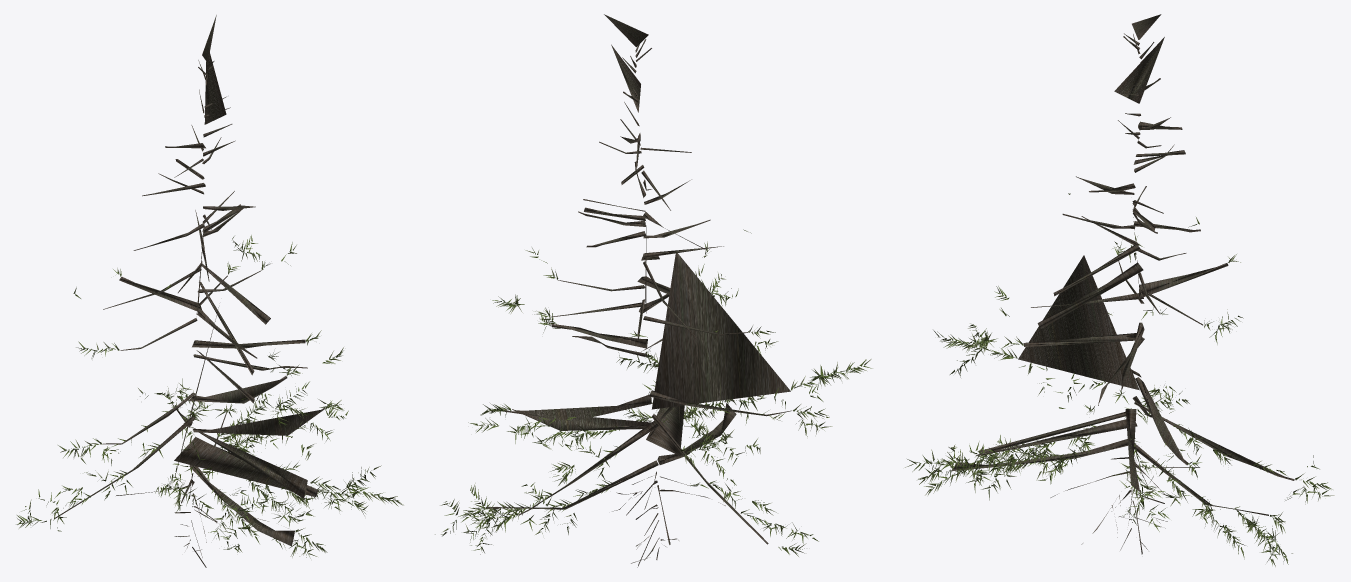
File: fir_medium_c_lodfar.gltf
3 renders of one model, left to right at view 1: azimuth 30°, elevation 25°; view 2: azimuth 150°, elevation 25°; view 3: azimuth 270°, elevation 25°, orthographic. The views are drawn at different scales.
Visible parts, largest first — view 1: fir_sapling_medium_c_LOD0.001, fir_sapling_medium_c_LOD0.002; view 2: fir_sapling_medium_c_LOD0.001, fir_sapling_medium_c_LOD0.002, fir_sapling_medium_c_LOD0; view 3: fir_sapling_medium_c_LOD0.001, fir_sapling_medium_c_LOD0.002, fir_sapling_medium_c_LOD0.
Boxes of the visible parts, <box> form: fir_sapling_medium_c_LOD0.001: <box>54,15,324,546</box>; fir_sapling_medium_c_LOD0.002: <box>16,235,403,558</box>; fir_sapling_medium_c_LOD0.001: <box>486,14,791,544</box>; fir_sapling_medium_c_LOD0.002: <box>435,229,872,556</box>; fir_sapling_medium_c_LOD0: <box>612,471,725,567</box>; fir_sapling_medium_c_LOD0.001: <box>951,14,1294,515</box>; fir_sapling_medium_c_LOD0.002: <box>905,193,1334,566</box>; fir_sapling_medium_c_LOD0: <box>1050,455,1199,554</box>.
Size of the model in its own units: 3.65 by 5.5 by 3.91.
Materials: 3 (3 with a texture image).
